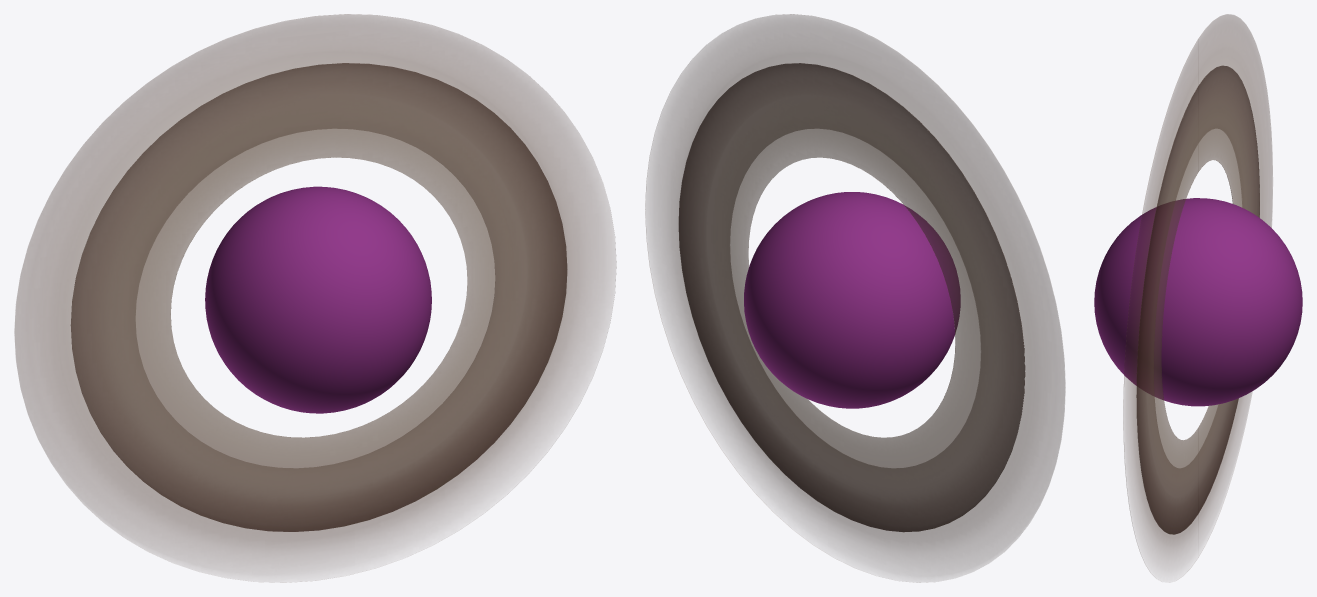
File: geonosis.obj
The picture shows the model from 3 angles, left to right: view 1: azimuth 30°, elevation 25°; view 2: azimuth 150°, elevation 25°; view 3: azimuth 270°, elevation 25°; orthographic projection. The views are drawn at different scales.
Visible parts, largest first — view 1: rings001, rings, geonosis; view 2: rings001, rings, geonosis; view 3: geonosis, rings001, rings.
Part boxes in pixels (bbox=[...]): rings001: bbox=[14, 14, 616, 582]; rings: bbox=[70, 63, 567, 531]; geonosis: bbox=[205, 186, 431, 413]; rings001: bbox=[645, 14, 1065, 582]; rings: bbox=[678, 63, 1025, 532]; geonosis: bbox=[744, 192, 960, 408]; geonosis: bbox=[1094, 198, 1302, 406]; rings001: bbox=[1123, 14, 1272, 573]; rings: bbox=[1136, 65, 1259, 534].
Size of the model in its own units: 302 by 312 by 114.
